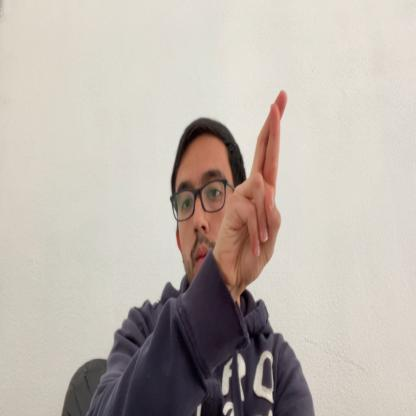R: (216, 88, 288, 285)
